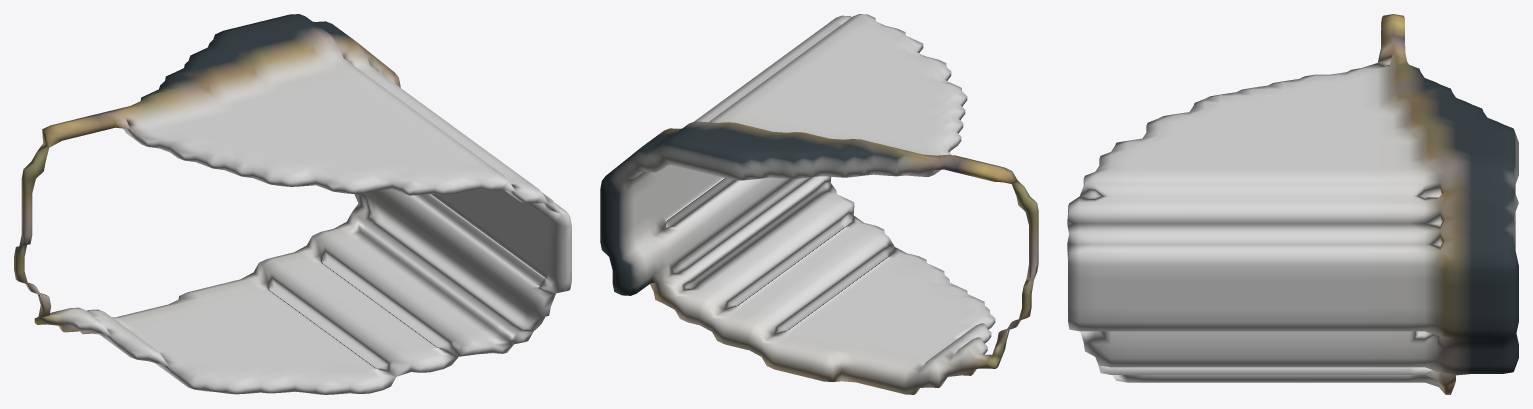
The picture shows the model from 3 angles, left to right: view 1: azimuth 30°, elevation 25°; view 2: azimuth 150°, elevation 25°; view 3: azimuth 270°, elevation 25°; orthographic projection. The views are drawn at different scales.
Size of the model in its own units: 1.54 by 0.89 by 1.44.
